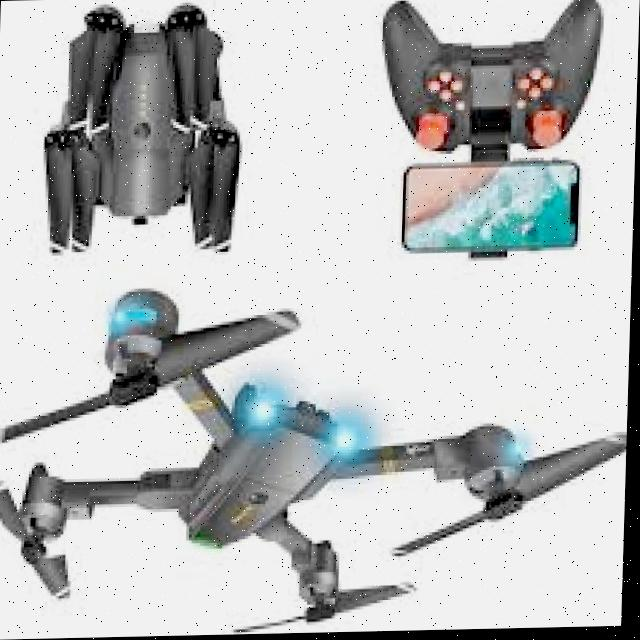drone: (0, 271, 630, 640)
